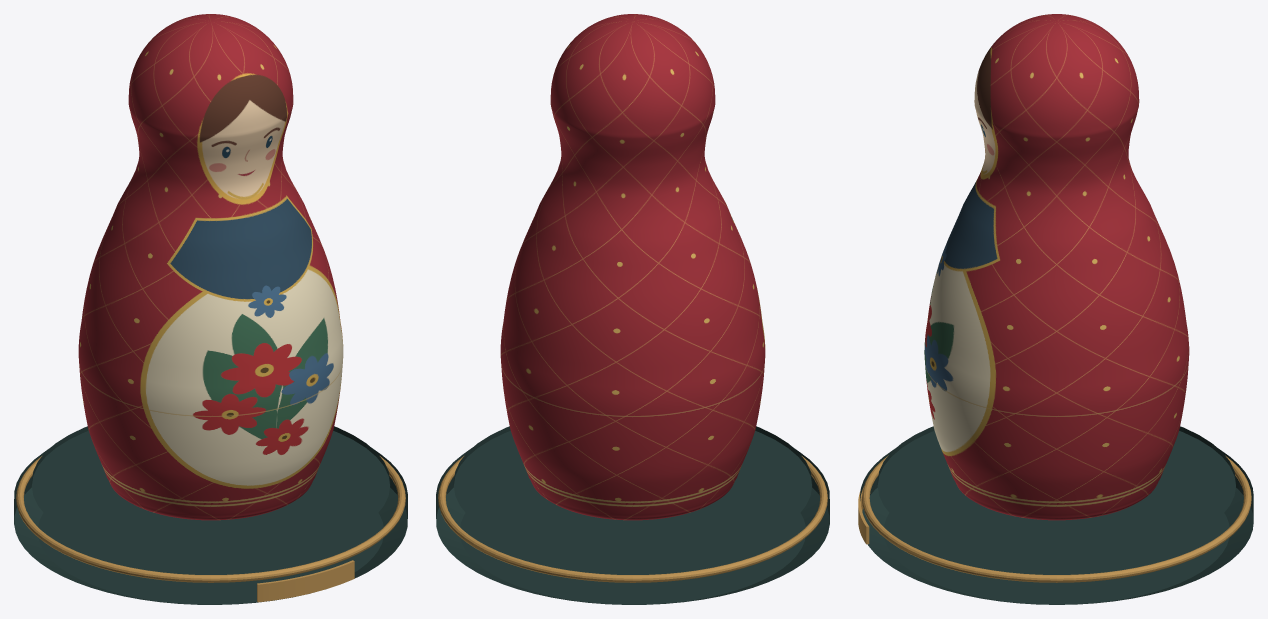
The model's file is russia.glb.
3 renders of one model, left to right at view 1: azimuth 30°, elevation 25°; view 2: azimuth 150°, elevation 25°; view 3: azimuth 270°, elevation 25°, orthographic.
Parts seen in each view (by area): view 1: Floral matryoshka; view 2: Floral matryoshka; view 3: Floral matryoshka.
Part boxes in pixels (x1=…): Floral matryoshka: x1=14, y1=14, x2=407, y2=604; Floral matryoshka: x1=436, y1=14, x2=829, y2=604; Floral matryoshka: x1=858, y1=14, x2=1253, y2=604.
Size of the model in its own units: 1.96 by 2.8 by 1.97.
3 materials, 1 textured.
